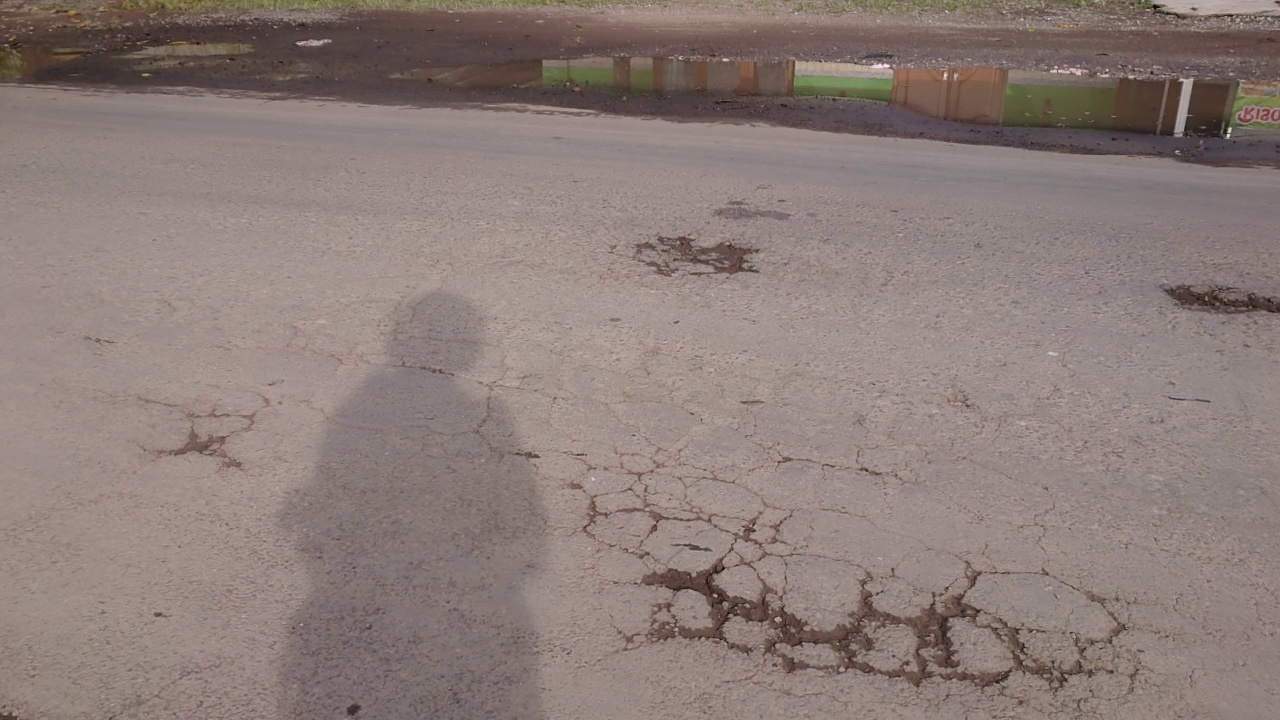Retak: (577, 452, 1134, 714), (616, 212, 758, 289), (167, 398, 251, 483), (1169, 286, 1274, 344)
